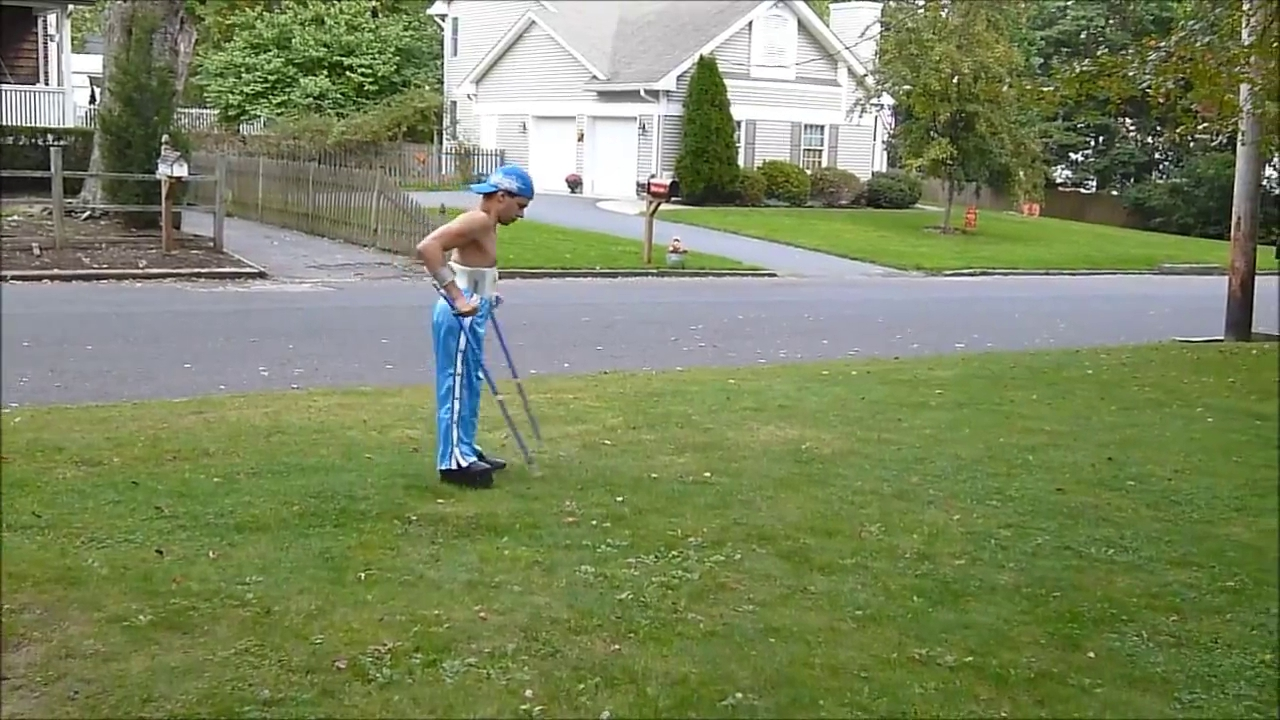person: (416, 164, 534, 487)
